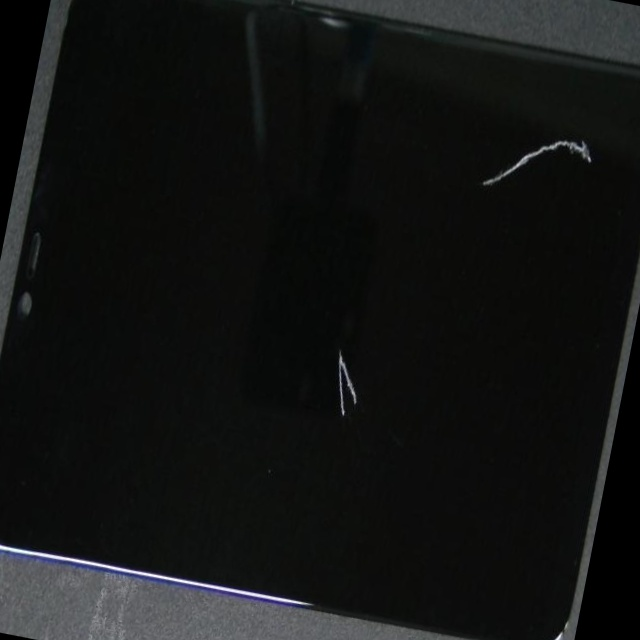scratch: (169, 174, 581, 611), (339, 37, 640, 221)
